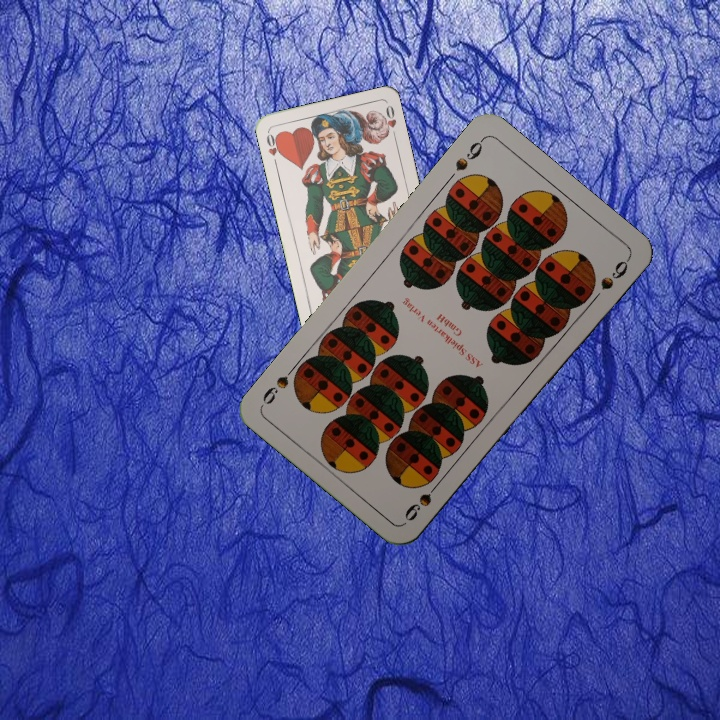HO: (262, 128, 284, 168)
S9: (400, 475, 444, 524), (450, 134, 487, 174)
